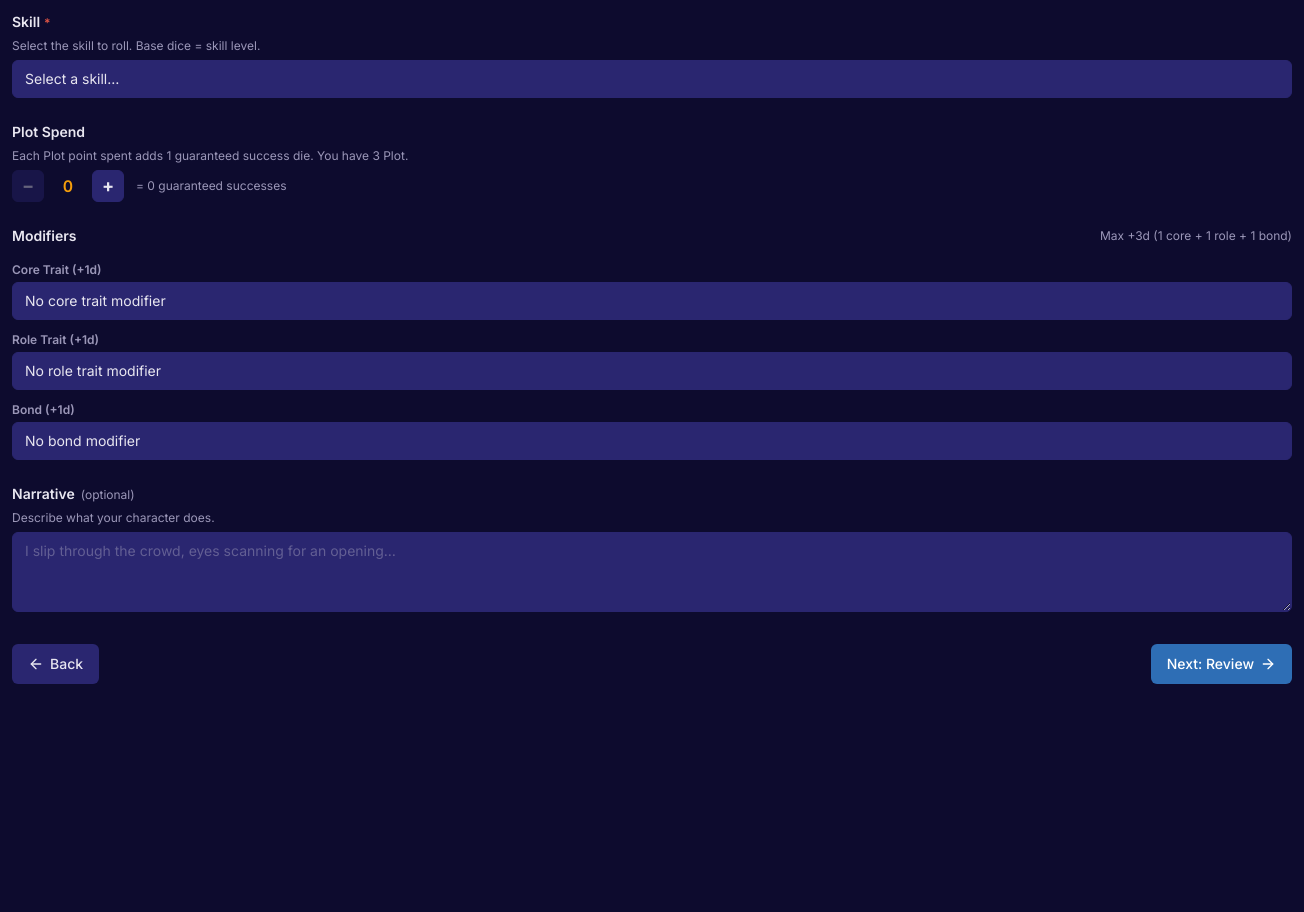
Test case: UseSkillForm › plot spend › decrements plot spend when − is clicked
Step 1. Click the button named "Increase plot spend" → (108, 186), box [92,170,124,202]
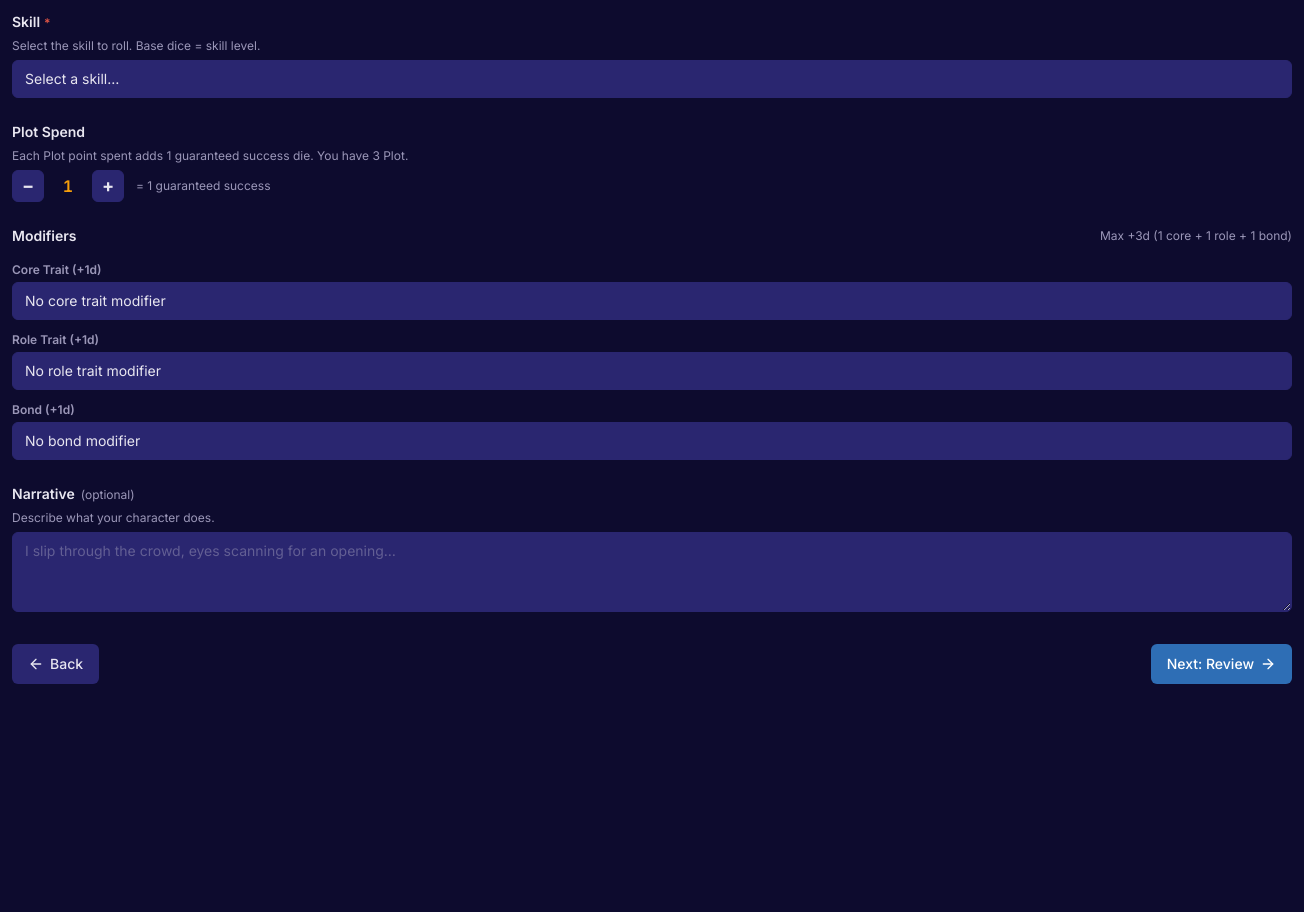
Step 2. Click the button named "Decrease plot spend" → (28, 186), box [12,170,44,202]
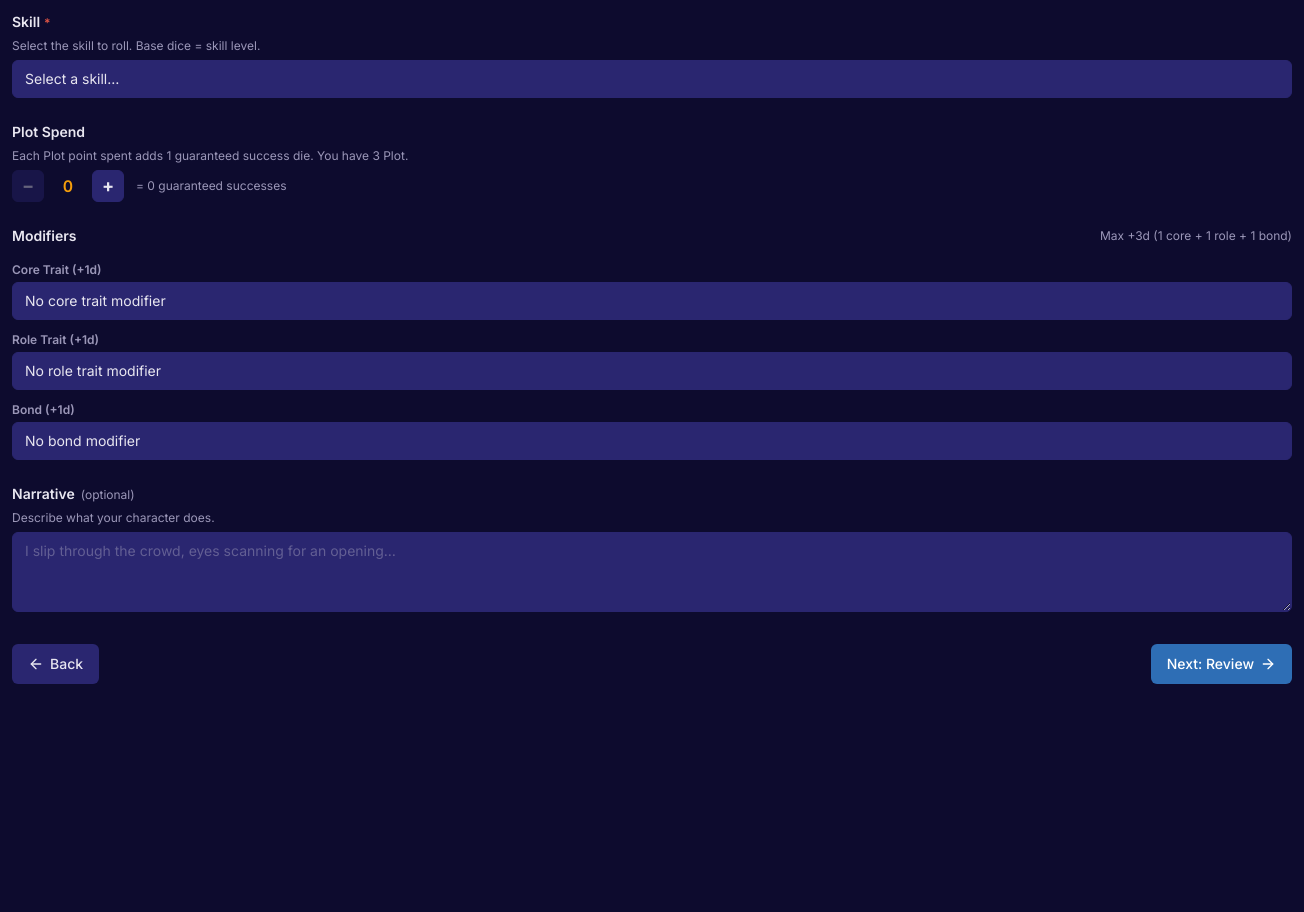
Expected: the text named "Plot spend amount" reads "0", [63,176,73,196]
